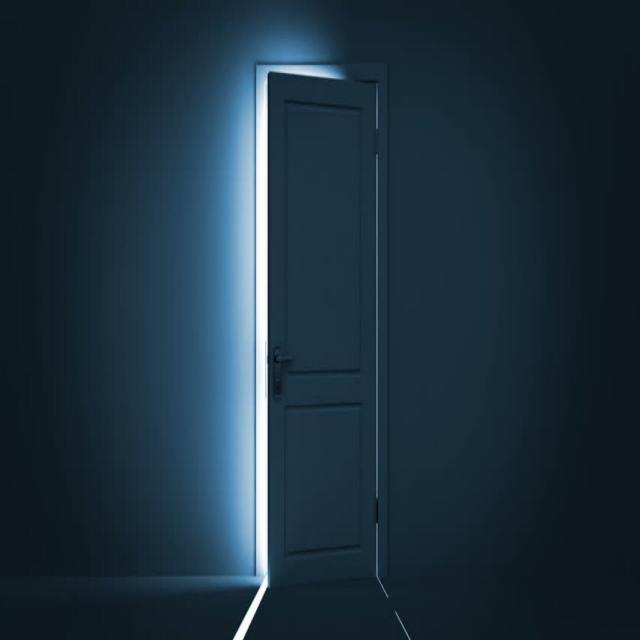open: (256, 70, 388, 588)
